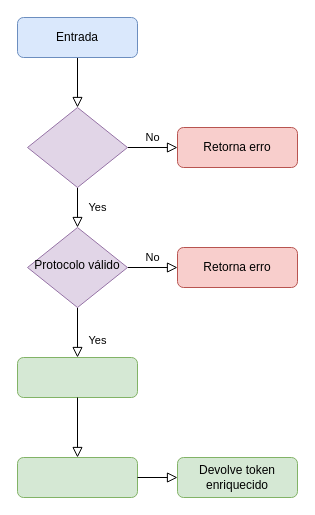
The diagram is 315 pixels wide and 515 high, and some of its shapes have lost their labels. The shapes that lost their labels are listed below. From the top down, each one's box as (x1, y1, x2, y2) in pixels, then its label:
(26, 106, 128, 188): Token válido
(16, 356, 138, 398): Consulta Op.513 IBI
(16, 456, 138, 498): Enriquece token
